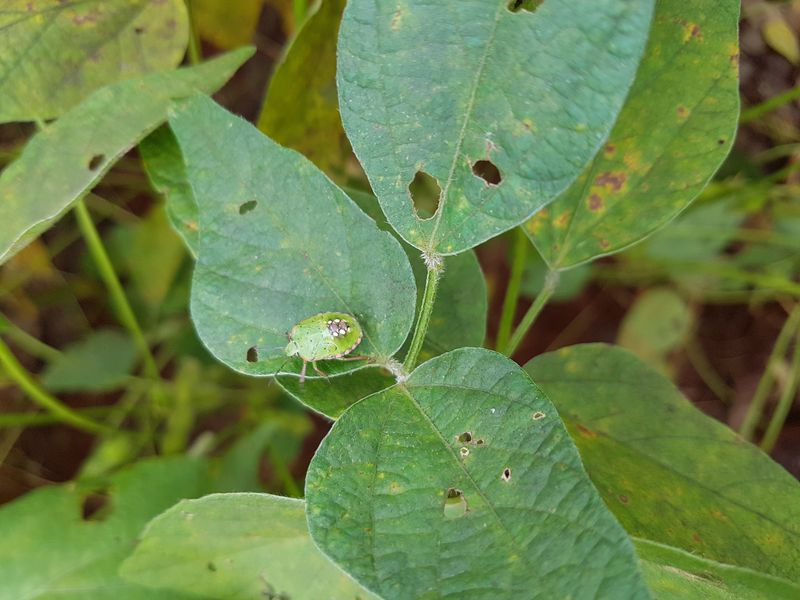Euschistus_heros_ninfa: (256, 294, 392, 397)
